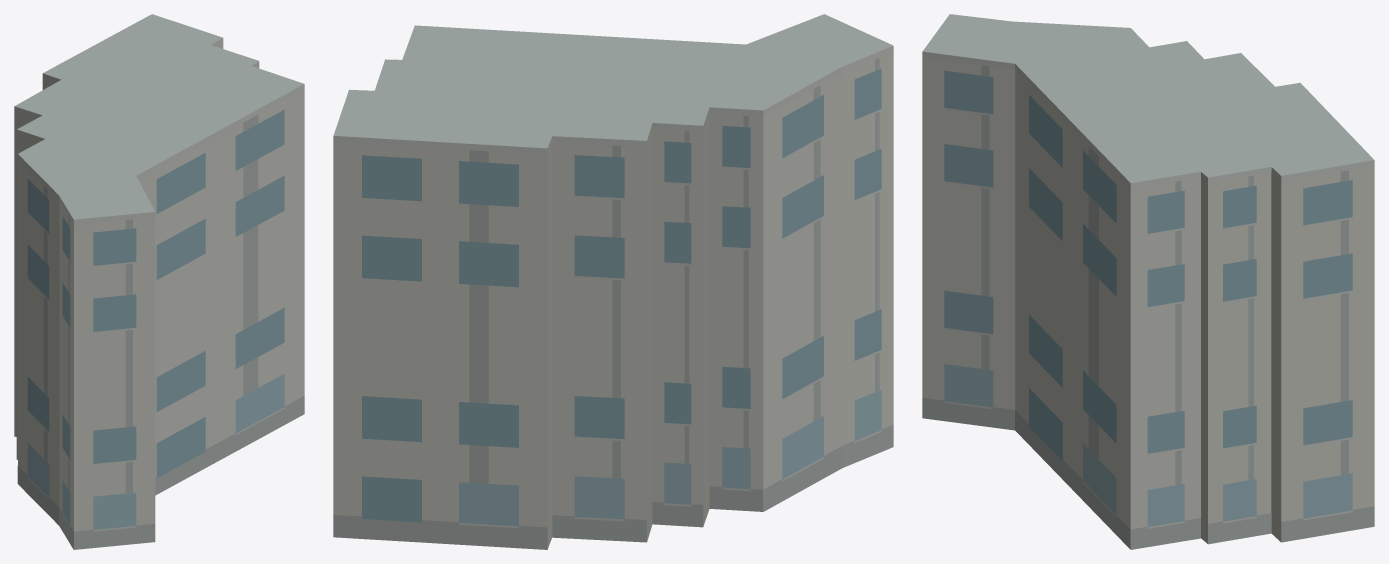
File: survey-upis-32799536.glb
3 views of the same model, side by side, from view 1: azimuth 30°, elevation 25°; view 2: azimuth 150°, elevation 25°; view 3: azimuth 270°, elevation 25° (orthographic). The views are drawn at different scales.
Parts seen in each view (by area): view 1: survey-upis-32799536.tmp; view 2: survey-upis-32799536.tmp; view 3: survey-upis-32799536.tmp.
Boxes of the visible parts, x1=… form: survey-upis-32799536.tmp: x1=14, y1=14, x2=304, y2=549; survey-upis-32799536.tmp: x1=333, y1=14, x2=893, y2=549; survey-upis-32799536.tmp: x1=922, y1=14, x2=1374, y2=549.
Size of the model in its own units: 15.06 by 15.2 by 17.
